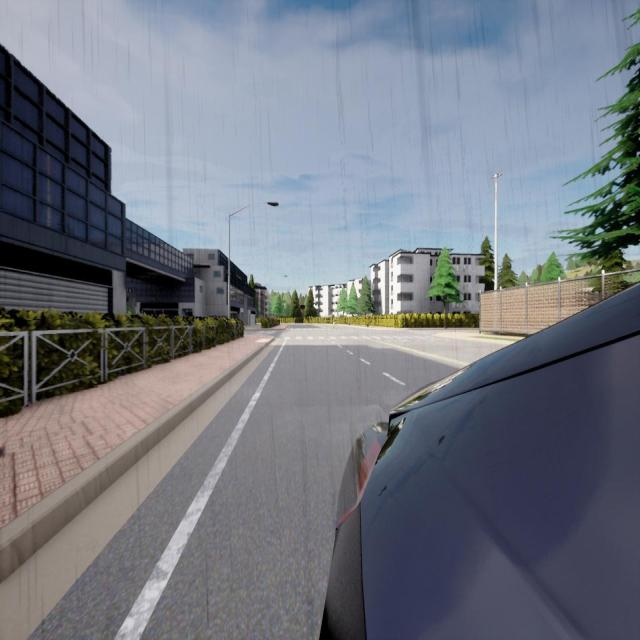Vehicle: (322, 284, 640, 637)
